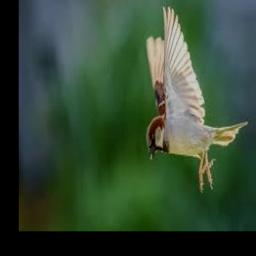Sparrow: (145, 6, 248, 192)
